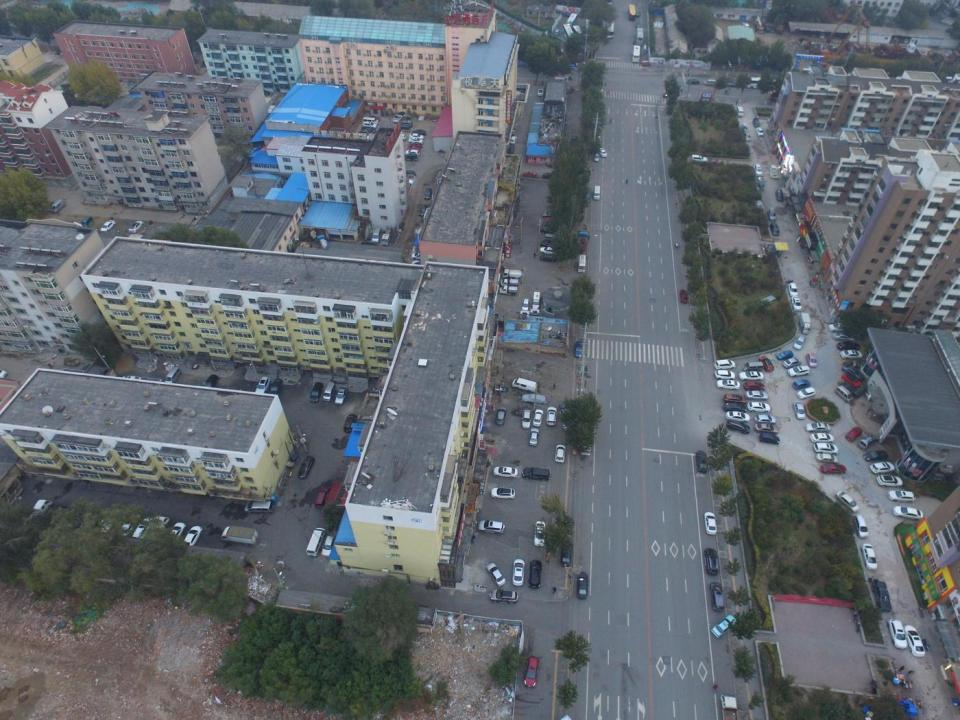bus: (744, 76, 776, 90), (604, 13, 613, 38), (563, 24, 573, 43), (566, 13, 577, 28), (632, 45, 641, 63), (635, 27, 643, 47), (572, 26, 584, 38), (628, 5, 636, 20)
car: (872, 578, 894, 612), (903, 625, 925, 656), (887, 620, 908, 650), (711, 614, 736, 638), (835, 490, 860, 513), (99, 516, 120, 540), (486, 562, 506, 587), (49, 505, 68, 530), (861, 544, 879, 570), (524, 656, 539, 687), (488, 588, 518, 603), (892, 505, 924, 519), (66, 512, 86, 534), (710, 581, 725, 610), (522, 466, 550, 481), (183, 526, 202, 548), (704, 548, 720, 574), (694, 449, 710, 474), (857, 433, 879, 451), (843, 363, 866, 380), (512, 558, 525, 586), (298, 457, 314, 479), (315, 483, 328, 510), (834, 385, 854, 402), (869, 461, 895, 474), (478, 520, 504, 533), (726, 419, 750, 433), (888, 490, 916, 502), (254, 375, 270, 396), (119, 517, 135, 538), (754, 422, 779, 435), (490, 486, 515, 499), (529, 560, 541, 587), (169, 522, 185, 542), (703, 511, 716, 535), (534, 520, 546, 546), (267, 378, 282, 398), (561, 541, 572, 568), (309, 382, 323, 403), (842, 382, 860, 398), (806, 422, 830, 434), (578, 572, 588, 600), (809, 432, 834, 443), (877, 475, 902, 486), (493, 466, 518, 477), (744, 380, 765, 393), (322, 535, 335, 556), (844, 426, 862, 441), (716, 379, 740, 390), (726, 411, 750, 422), (748, 401, 772, 412), (815, 442, 837, 454), (739, 371, 765, 381), (820, 464, 846, 474), (787, 365, 810, 376), (837, 341, 860, 352), (723, 402, 746, 413), (723, 393, 746, 404), (816, 453, 839, 464), (343, 415, 356, 434), (713, 360, 737, 370), (864, 450, 888, 460), (768, 89, 785, 103), (793, 401, 806, 419), (521, 394, 547, 403), (781, 357, 802, 368), (521, 409, 532, 430), (554, 444, 566, 463), (204, 374, 218, 390), (132, 524, 146, 540), (755, 413, 775, 424), (792, 378, 810, 390), (562, 418, 580, 430), (796, 388, 815, 399), (546, 407, 557, 426), (335, 386, 346, 405), (760, 356, 773, 372), (745, 391, 768, 400), (762, 18, 775, 33), (793, 335, 805, 351), (805, 352, 817, 368), (775, 350, 794, 360), (529, 428, 539, 447), (840, 350, 861, 359), (128, 220, 142, 233), (716, 370, 734, 380), (496, 407, 506, 425), (122, 375, 142, 384), (791, 295, 801, 312), (833, 333, 855, 340), (539, 246, 558, 254), (828, 323, 847, 331), (102, 220, 114, 232), (540, 240, 558, 248), (574, 341, 582, 359), (404, 150, 420, 158), (408, 136, 424, 144), (541, 226, 557, 234), (534, 410, 542, 426), (404, 153, 418, 162), (361, 121, 376, 129), (542, 214, 557, 222), (772, 222, 780, 237), (358, 129, 374, 136), (405, 146, 421, 153), (412, 129, 426, 137), (680, 289, 688, 303), (361, 125, 376, 132), (776, 189, 784, 202), (755, 126, 764, 137), (522, 172, 538, 178), (768, 209, 776, 221), (409, 141, 422, 148), (543, 172, 556, 179), (409, 134, 424, 140), (758, 174, 764, 189), (405, 170, 416, 178), (411, 253, 423, 260), (544, 211, 556, 218), (420, 205, 427, 216), (508, 145, 515, 156), (393, 114, 402, 122), (425, 188, 431, 199), (544, 222, 555, 228), (599, 148, 607, 156), (728, 81, 737, 88), (753, 118, 760, 127), (538, 88, 544, 98), (571, 134, 577, 144), (745, 133, 751, 143), (510, 136, 517, 144), (663, 90, 670, 98), (688, 79, 699, 84), (398, 134, 406, 140), (741, 22, 749, 26), (636, 13, 640, 19)
truck: (716, 692, 748, 718), (143, 516, 169, 546), (29, 499, 53, 531), (222, 526, 258, 544), (380, 226, 393, 248), (576, 230, 589, 251), (799, 313, 811, 334), (503, 268, 522, 279), (578, 253, 587, 275), (754, 17, 765, 34), (500, 286, 518, 295), (500, 278, 518, 286)
van: (306, 528, 324, 558), (243, 500, 274, 514), (854, 514, 870, 540), (512, 377, 537, 391), (582, 425, 592, 456), (759, 431, 779, 445), (166, 367, 181, 385), (323, 382, 335, 402), (49, 199, 64, 214), (371, 226, 381, 244), (690, 155, 708, 165), (743, 362, 763, 371), (537, 254, 557, 262), (362, 116, 381, 124), (768, 164, 778, 179), (544, 232, 560, 241), (788, 282, 797, 298), (593, 185, 601, 201), (533, 292, 540, 308), (399, 123, 410, 133), (521, 298, 530, 310), (755, 163, 762, 178), (82, 217, 92, 227), (736, 106, 744, 118), (740, 122, 748, 133), (704, 80, 716, 85), (725, 77, 735, 83), (594, 152, 599, 163), (554, 28, 560, 36), (403, 121, 412, 126)
